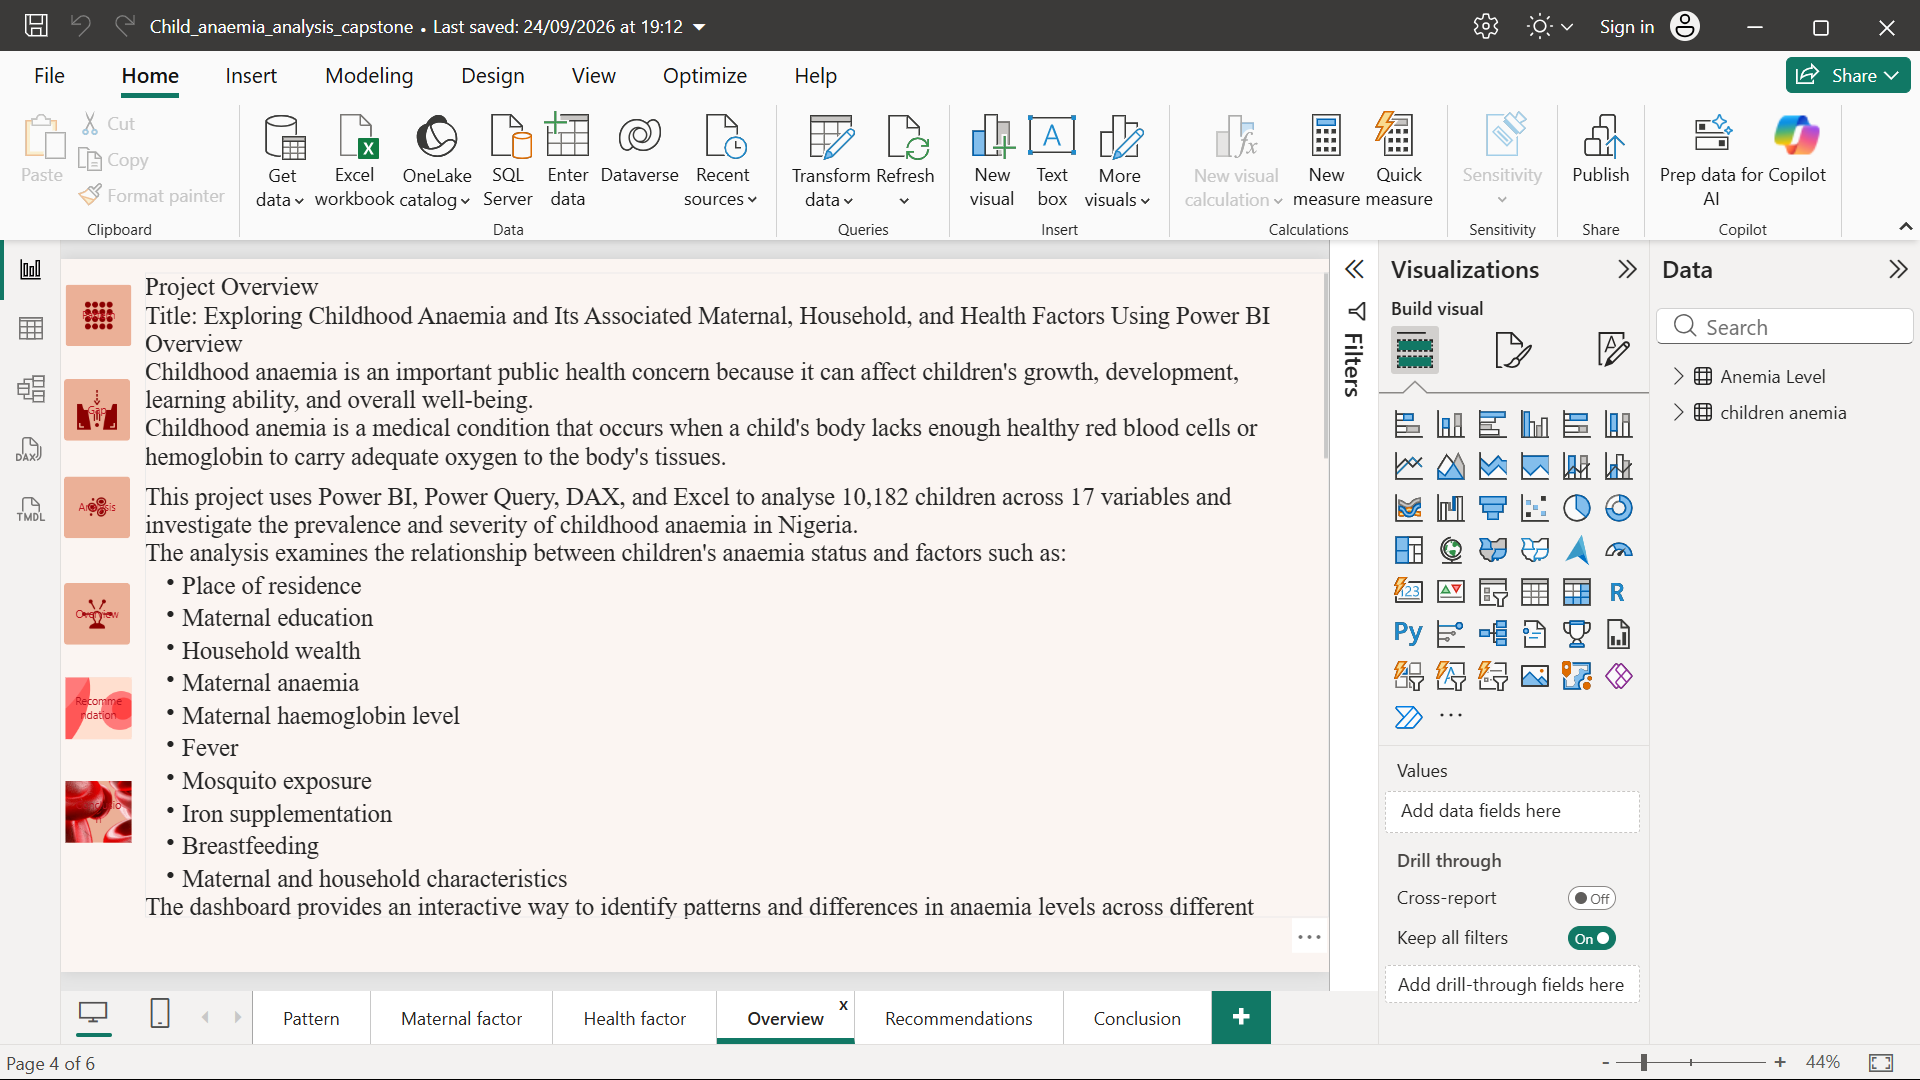

This screenshot's page, from the dashboard's own definition file:
{"tool":"powerbi","page":{"name":"Overview","canvas":[1920,1080],"ordinal":3},"visuals":[{"type":"textbox","box":[126.7,20,1793.3,977.8],"z":0},{"type":"actionButton","box":[7.8,38.1,100,93.3],"z":1000},{"type":"actionButton","box":[5.6,182.6,100,93.3],"z":2000},{"type":"actionButton","box":[5.6,329.3,100,93.3],"z":3000},{"type":"actionButton","box":[5.6,491.5,100,93.3],"z":4000},{"type":"actionButton","box":[7.8,633.7,100,93.3],"z":5000},{"type":"actionButton","box":[7.8,791.5,100,93.3],"z":6000}]}

Visuals, with their boxes on the page's 1920x1080 design canvas (x1, y1, x2, y2). These are canvas units, not pixel positions in the 1920x1080 screenshot, which may show the page scaled, cropped or inside an application window:
textbox: Rect(127, 20, 1920, 998)
actionButton: Rect(8, 38, 108, 131)
actionButton: Rect(6, 183, 106, 276)
actionButton: Rect(6, 329, 106, 423)
actionButton: Rect(6, 492, 106, 585)
actionButton: Rect(8, 634, 108, 727)
actionButton: Rect(8, 792, 108, 885)
